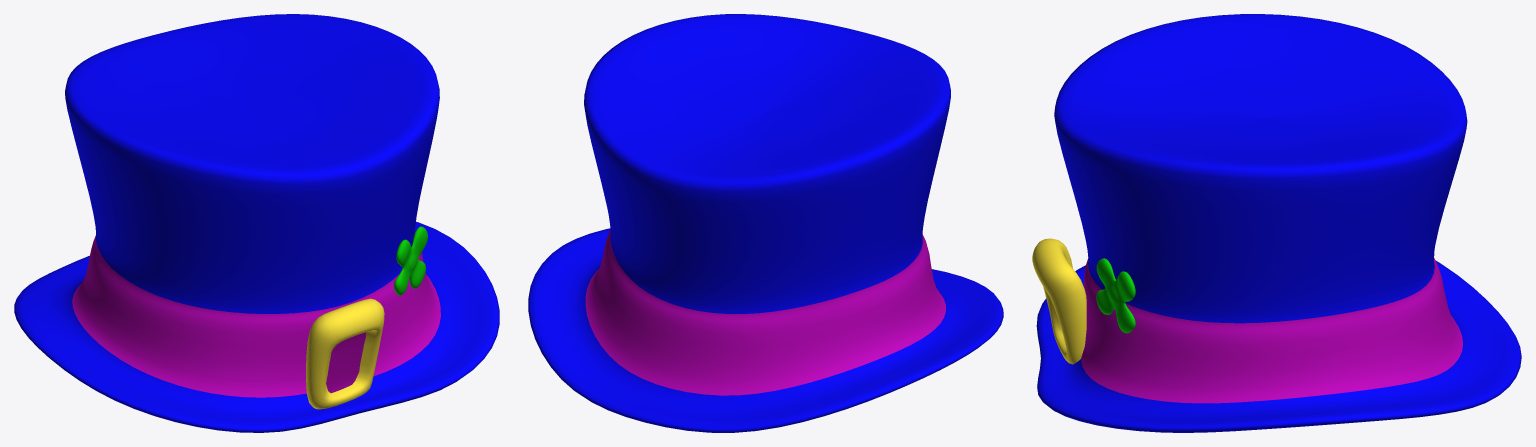
File: Hat.fbx
3 renders of one model, left to right at view 1: azimuth 30°, elevation 25°; view 2: azimuth 150°, elevation 25°; view 3: azimuth 270°, elevation 25°, orthographic. The views are drawn at different scales.
Parts seen in each view (by area): view 1: Hat; view 2: Hat; view 3: Hat.
Part boxes in pixels (bbox=[...]): Hat: bbox=[14, 14, 499, 432]; Hat: bbox=[528, 14, 1003, 432]; Hat: bbox=[1032, 14, 1521, 432].
Size of the model in its own units: 35.16 by 21.2 by 33.99.
